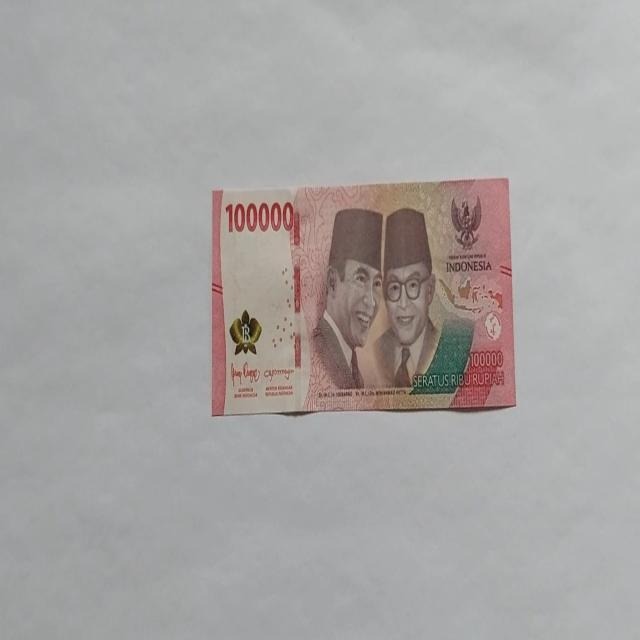seratus ribu rupiah: (211, 178, 516, 416)
